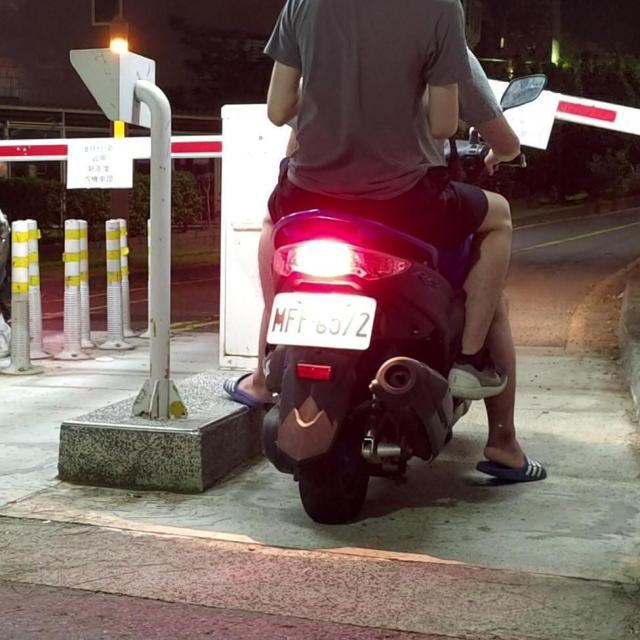W: (265, 286, 376, 353)
